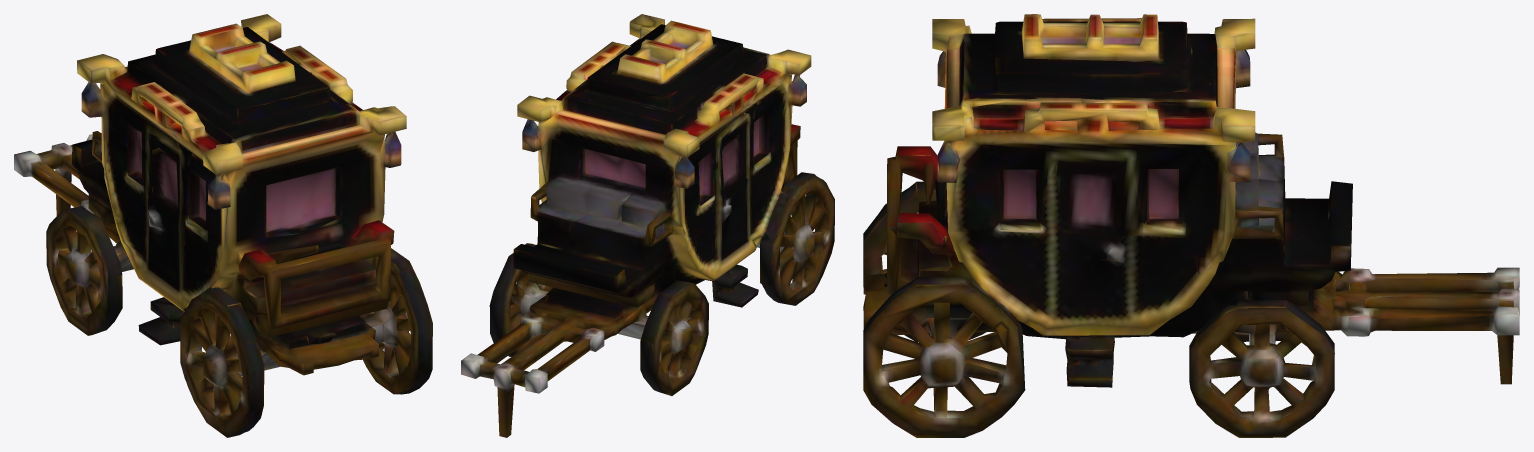
The model's file is reference-carriage.glb.
The picture shows the model from 3 angles, left to right: view 1: azimuth 30°, elevation 25°; view 2: azimuth 150°, elevation 25°; view 3: azimuth 270°, elevation 25°; orthographic projection. The views are drawn at different scales.
Visible parts, largest first — view 1: carriage; view 2: carriage; view 3: carriage.
Part boxes in pixels (x1=…): carriage: x1=14, y1=14, x2=432, y2=437; carriage: x1=461, y1=14, x2=834, y2=437; carriage: x1=863, y1=14, x2=1519, y2=437.
Bounding box in the file's own units: 2.08 × 3.09 × 5.1.
Materials: 1 (1 with a texture image).
